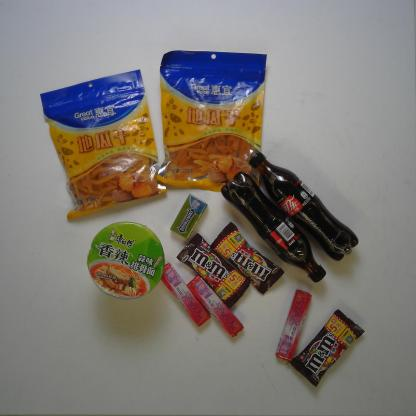Candy: (185, 274, 244, 343), (157, 264, 210, 328), (275, 288, 313, 363)
Chocolate: (289, 306, 366, 390), (170, 232, 249, 312), (208, 222, 285, 294)
Dried Fruit: (35, 67, 172, 224), (152, 46, 270, 195)
Drink: (247, 150, 364, 262), (218, 171, 328, 285)
Gum: (166, 187, 209, 242)
Instant Noodles: (80, 216, 169, 305)
